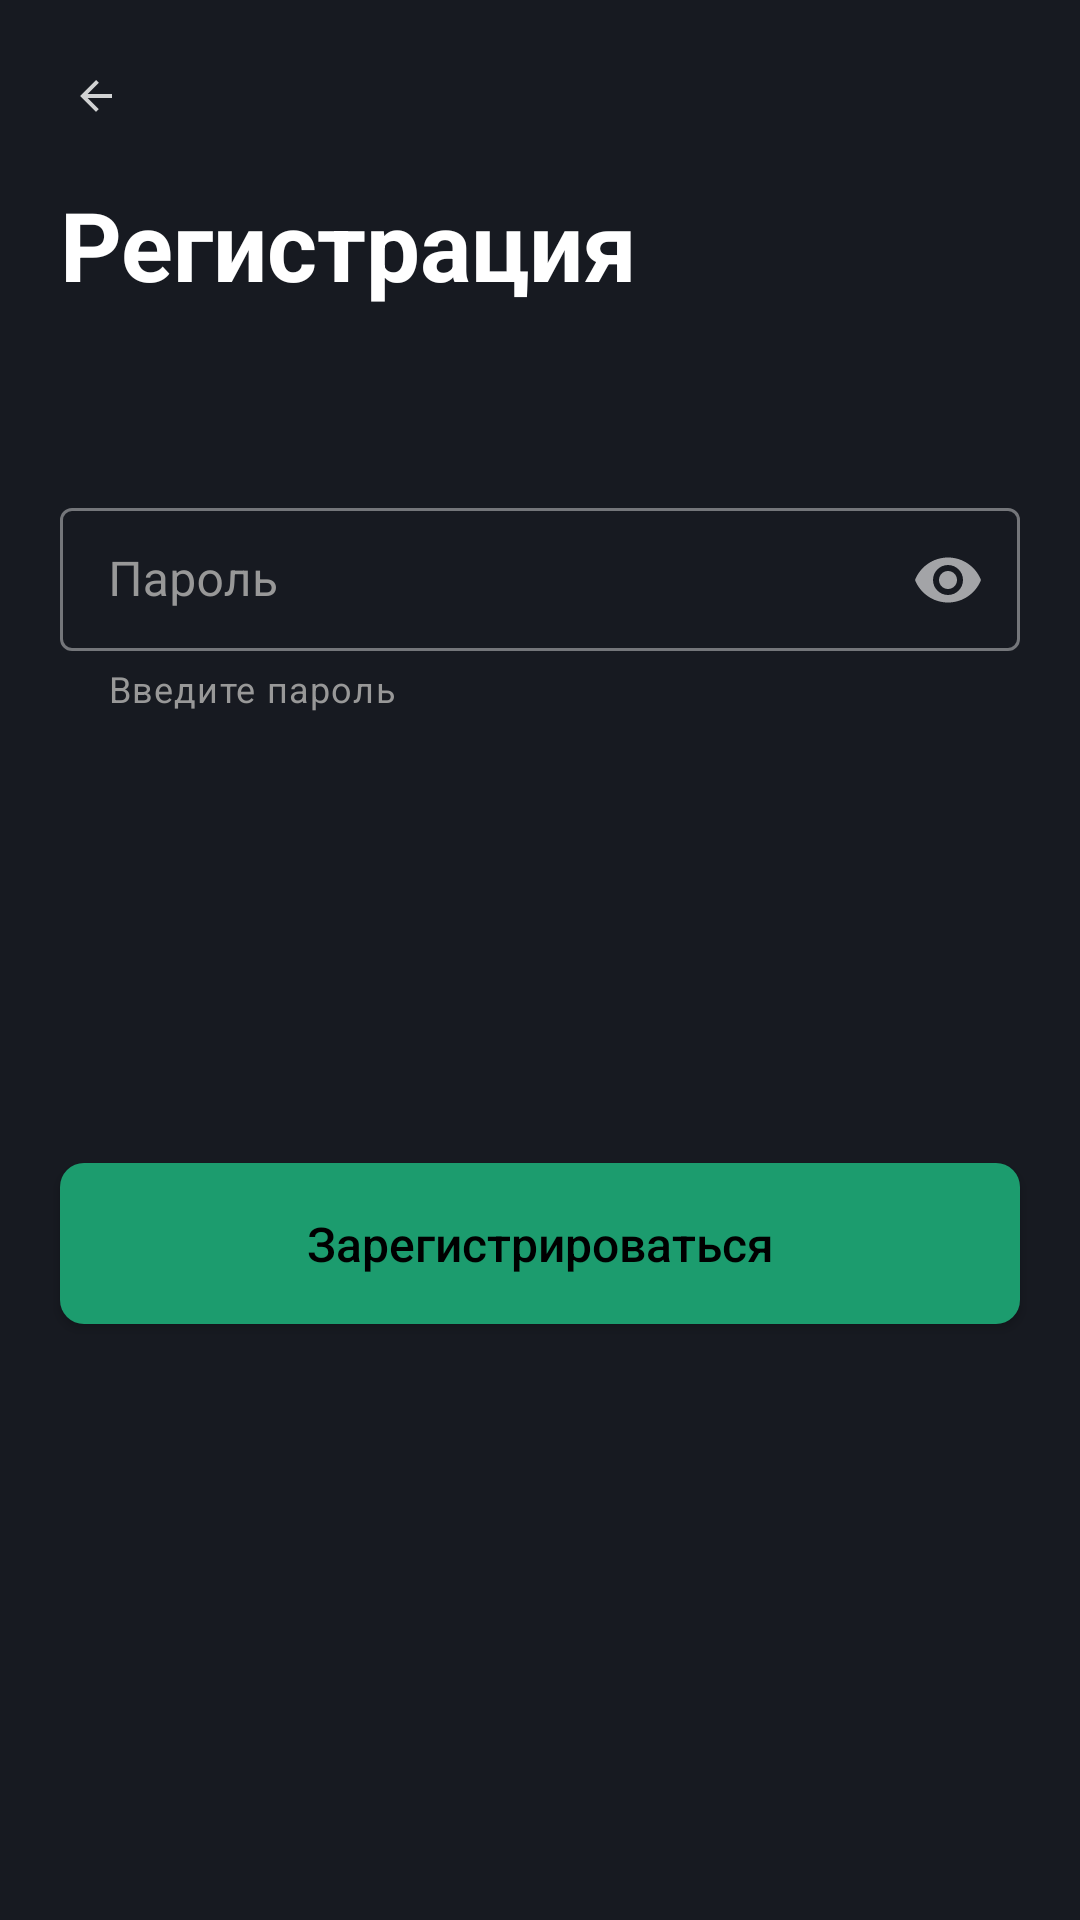

Icons on this 1080 × 1920 Android screen, each with its box as (x1, y1, x2, y2):
arrow back: (80, 80, 112, 112)
